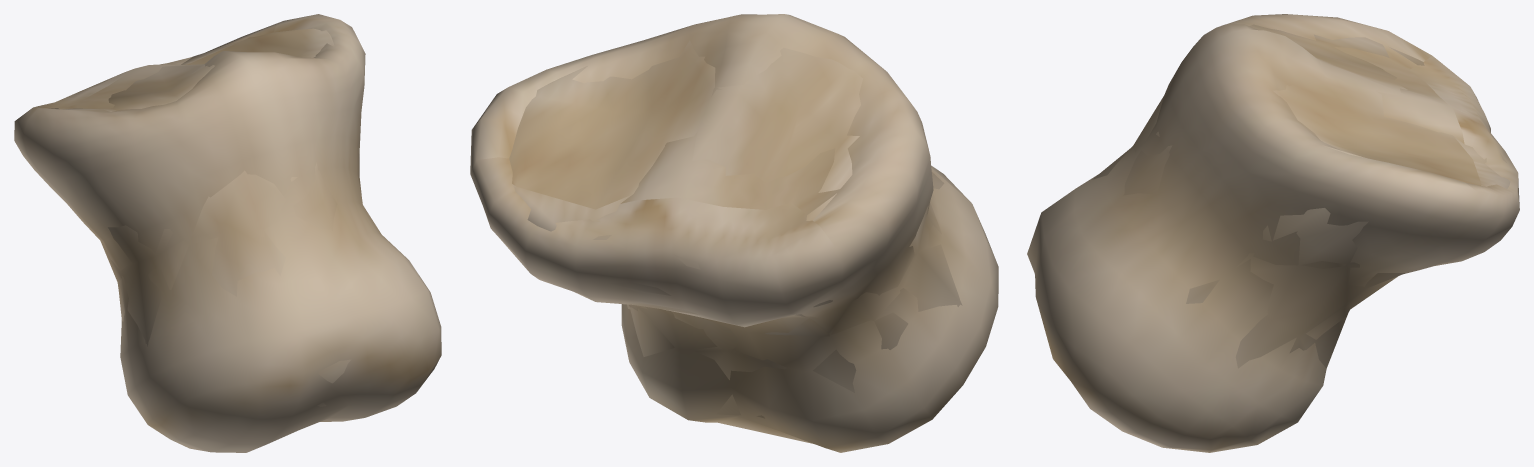
Rendered from FR 2nd Phalanx.fbx.
3 renders of one model, left to right at view 1: azimuth 30°, elevation 25°; view 2: azimuth 150°, elevation 25°; view 3: azimuth 270°, elevation 25°, orthographic. The views are drawn at different scales.
Parts seen in each view (by area): view 1: FR 2nd Phalanx, FR 2nd Phalanx low; view 2: FR 2nd Phalanx, FR 2nd Phalanx low; view 3: FR 2nd Phalanx, FR 2nd Phalanx low.
Boxes of the visible parts, x1,y1,x2,y2 form: FR 2nd Phalanx: [14, 14, 441, 452]; FR 2nd Phalanx low: [49, 28, 361, 406]; FR 2nd Phalanx: [470, 14, 998, 452]; FR 2nd Phalanx low: [509, 40, 962, 443]; FR 2nd Phalanx: [1027, 14, 1519, 452]; FR 2nd Phalanx low: [1034, 24, 1510, 368].
Size of the model in its own units: 5.96 by 6.17 by 7.12.
Materials: 1 (1 with a texture image).
